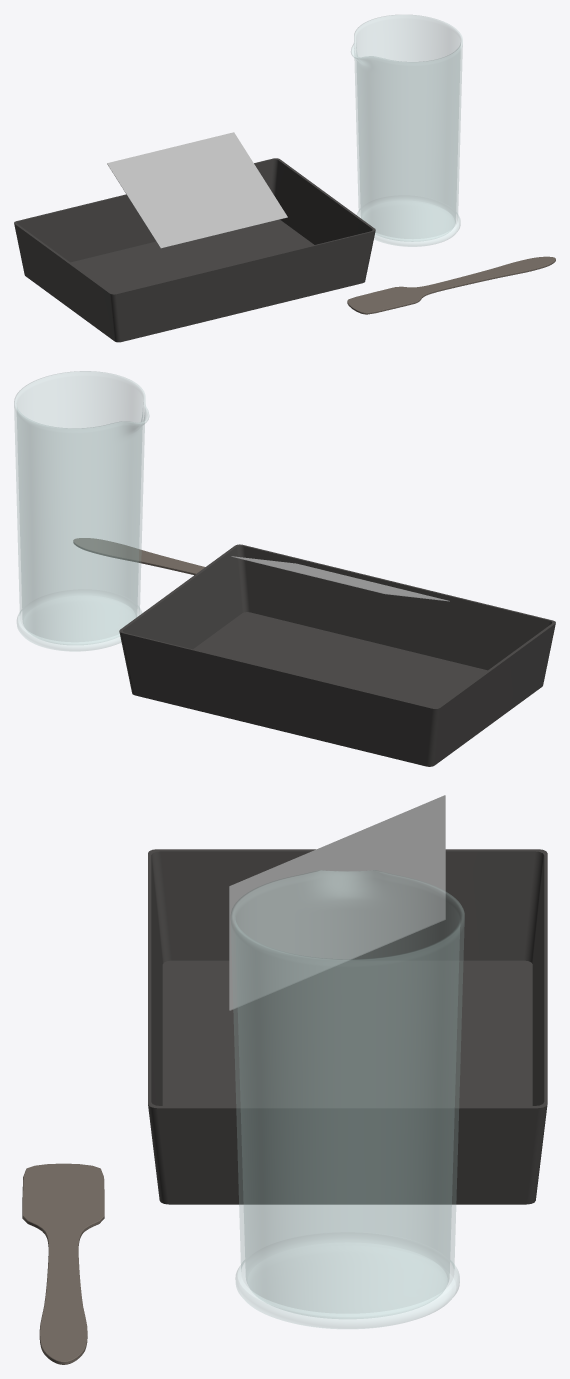
File: demo_step6_bakedanim.glb
3 views of the same model, one above another, from view 1: azimuth 30°, elevation 25°; view 2: azimuth 150°, elevation 25°; view 3: azimuth 270°, elevation 25° (orthographic). The views are drawn at different scales.
Visible parts, largest first — view 1: tray.003, graduatedCylinder.004, paper1, woodenSpoon.003; view 2: tray.003, graduatedCylinder.004, woodenSpoon.003, paper1; view 3: tray.003, graduatedCylinder.004, paper1, woodenSpoon.003.
Boxes of the visible parts, x1,y1,x2,y2 form: tray.003: [14, 158, 375, 342]; graduatedCylinder.004: [351, 15, 462, 246]; paper1: [107, 132, 287, 248]; woodenSpoon.003: [347, 256, 555, 314]; tray.003: [119, 544, 555, 766]; graduatedCylinder.004: [14, 371, 149, 651]; woodenSpoon.003: [73, 538, 205, 575]; paper1: [231, 556, 449, 601]; tray.003: [148, 849, 547, 1204]; graduatedCylinder.004: [231, 870, 464, 1328]; paper1: [229, 795, 445, 1010]; woodenSpoon.003: [22, 1163, 104, 1364].
Bounding box in the file's own units: 23.97 × 10.17 × 12.91.
